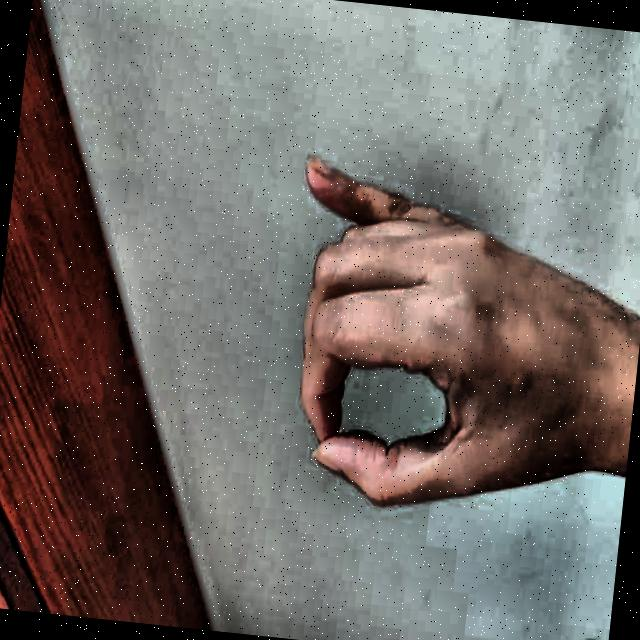Ou: (235, 109, 640, 558)
